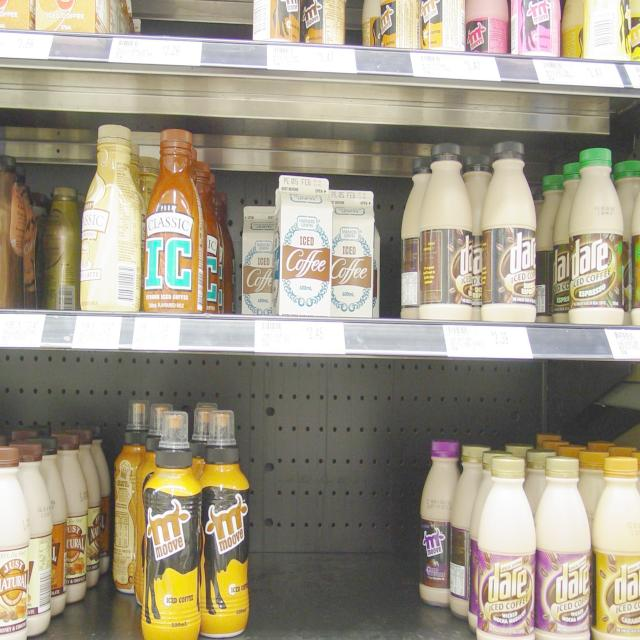empty_space: (252, 402, 413, 631), (136, 0, 250, 36)
